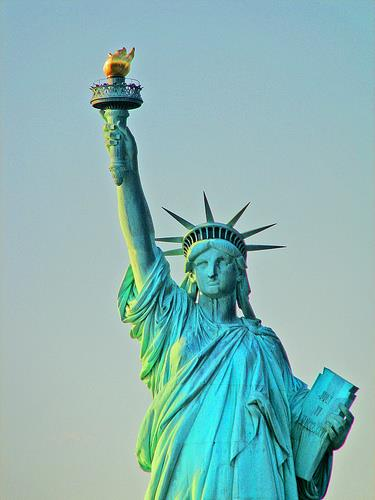Statue_of_Liberty: (82, 40, 359, 494)
